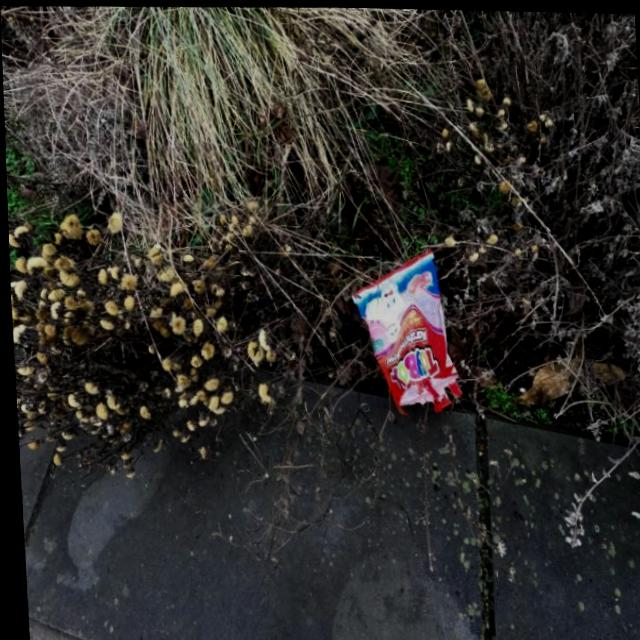Plastic: (346, 244, 462, 417)
